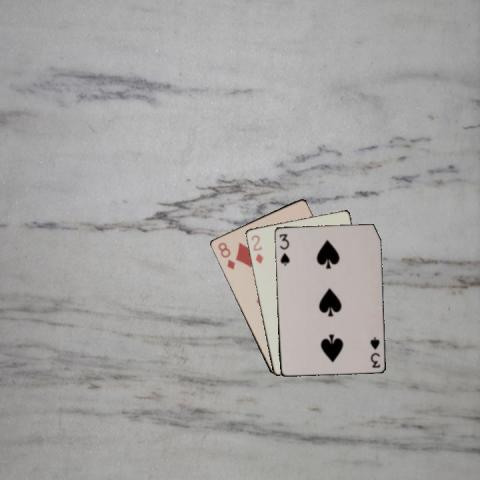2d: (248, 232, 264, 265)
3s: (276, 231, 291, 266), (367, 334, 381, 369)
8d: (215, 240, 236, 272)
